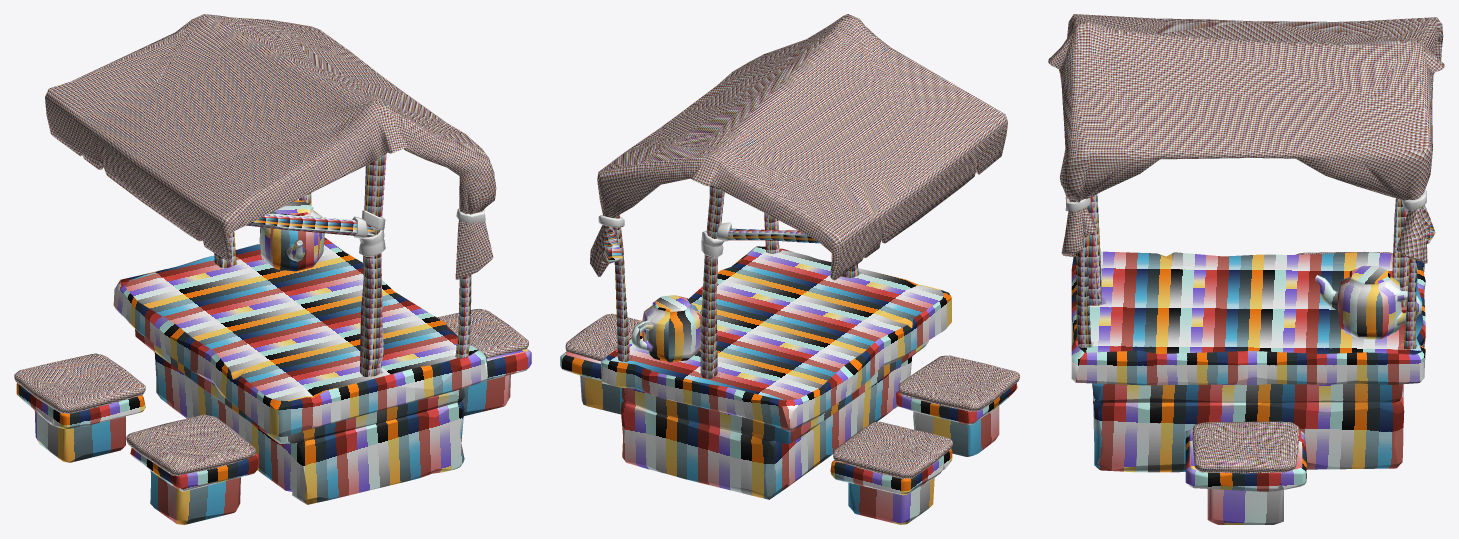
Rendered from Prop_AP27TeaStall.glb.
The picture shows the model from 3 angles, left to right: view 1: azimuth 30°, elevation 25°; view 2: azimuth 150°, elevation 25°; view 3: azimuth 270°, elevation 25°; orthographic projection. The views are drawn at different scales.
Parts seen in each view (by area): view 1: Prop_AP27TeaStall; view 2: Prop_AP27TeaStall; view 3: Prop_AP27TeaStall.
Boxes of the visible parts, x1,y1,x2,y2 form: Prop_AP27TeaStall: (14, 14, 531, 524); Prop_AP27TeaStall: (560, 14, 1019, 524); Prop_AP27TeaStall: (1048, 14, 1444, 524).
Bounding box in the file's own units: 18.06 × 16.06 × 14.13.
Materials: 1 (1 with a texture image).
